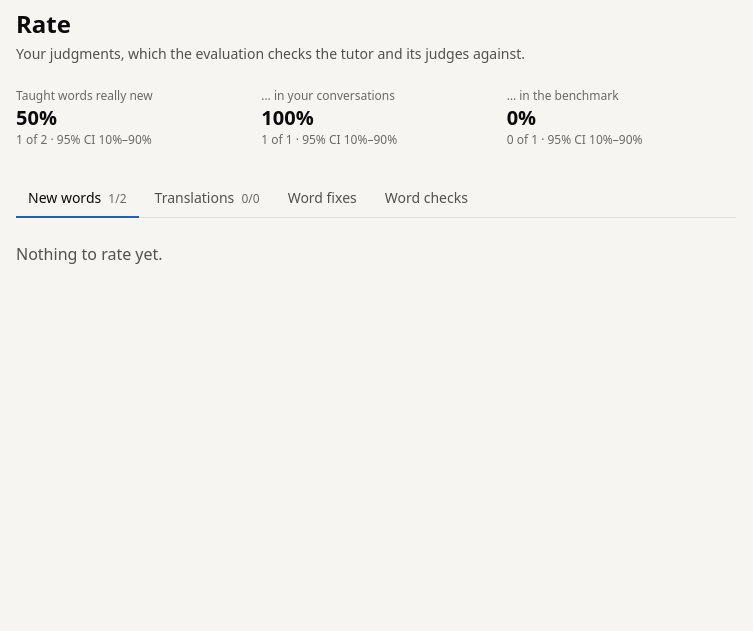
Test: Rating the lexicon review › shows a flagged field with its fix, reasons and the three choices
The image size is (753, 631).
Click the tab "Word fixes": (322, 199) [276,180,369,218]
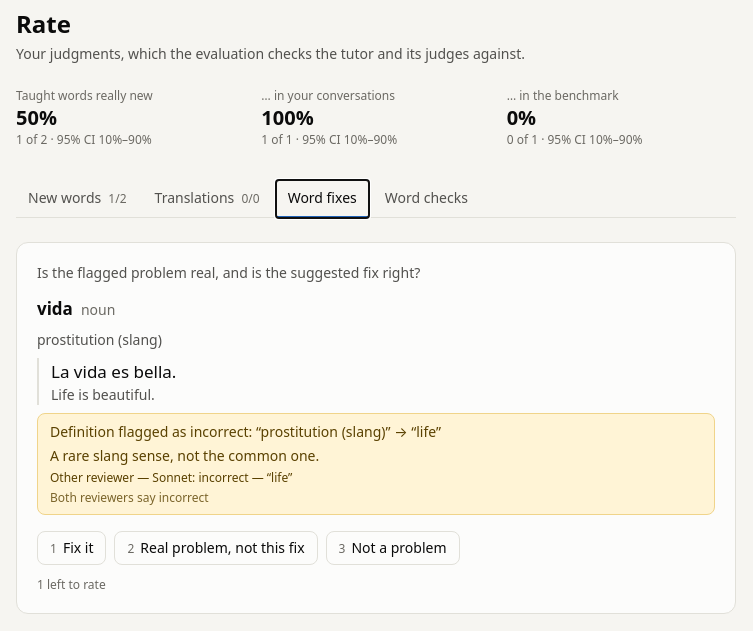
Expected: the element labelled "flagged" shows "Definition flagged as incorrect: “prostitution (slang)” → “life”", [37,413,715,515]
Expected: the element labelled "flagged" shows "Other reviewer — Sonnet: incorrect — “life”", [37,413,715,515]
Expected: the element labelled "flagged" shows "Both reviewers say incorrect", [50,489,209,506]
